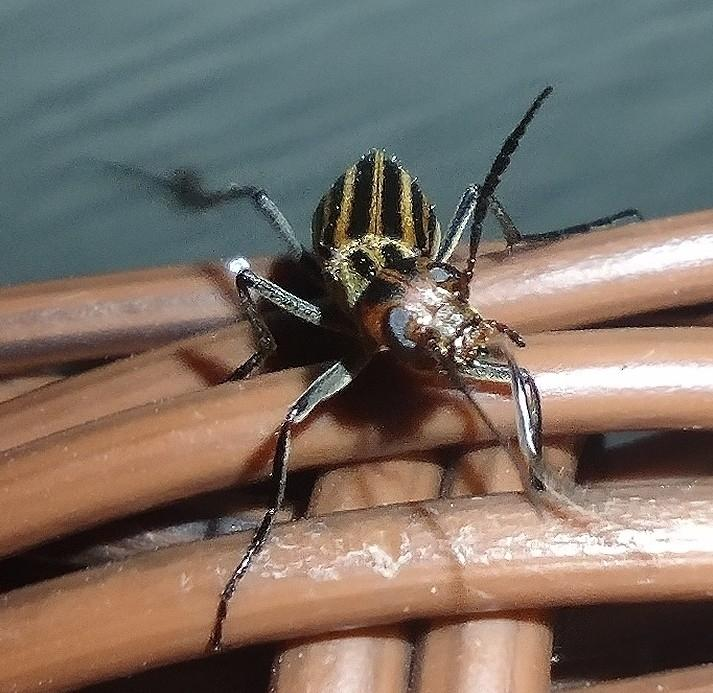blister_beetle: (145, 39, 697, 688)
